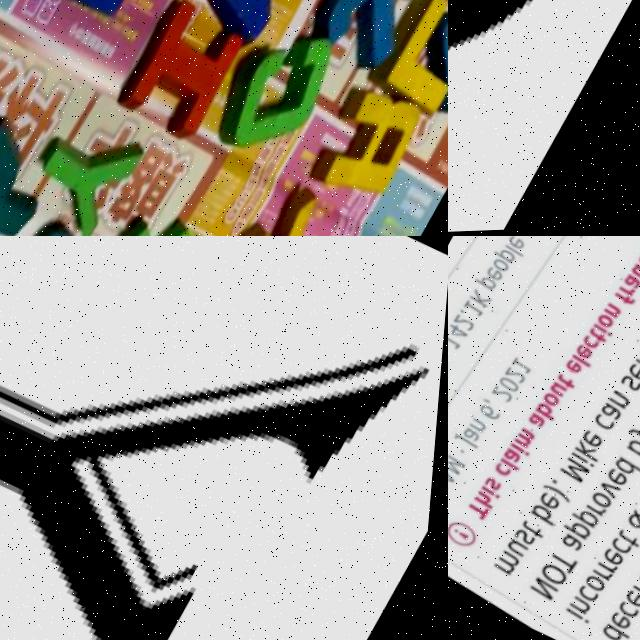0: (501, 373, 529, 395), (448, 480, 458, 502), (448, 490, 451, 511)
1: (512, 353, 544, 377), (464, 298, 494, 321), (448, 330, 471, 352)
2: (455, 311, 484, 333), (495, 384, 523, 405), (508, 366, 535, 386)
4: (449, 321, 477, 342)
6: (482, 402, 511, 425)
8: (448, 0, 640, 228)
C: (213, 25, 350, 176)
F: (86, 191, 233, 236)
I: (112, 0, 259, 165)
J: (301, 0, 431, 88)
K: (0, 102, 82, 236)
L: (370, 0, 448, 128)
N: (187, 0, 338, 49)
P: (412, 1, 448, 120)
R: (313, 91, 436, 214)
X: (211, 169, 363, 236)
Y: (0, 236, 448, 640), (16, 107, 154, 236)
